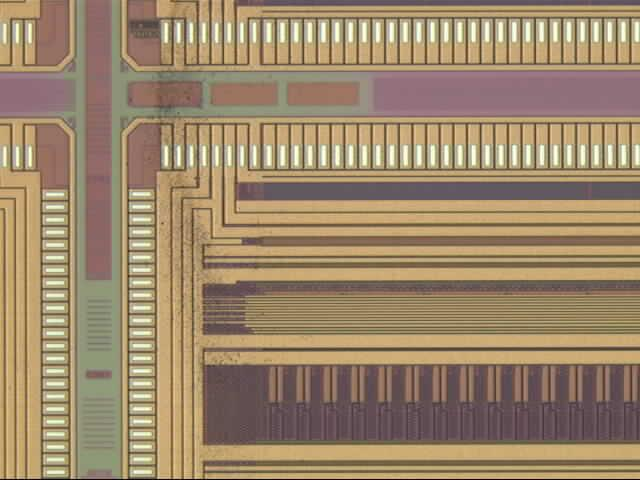PO CONTAMINATION: (136, 2, 242, 480)
